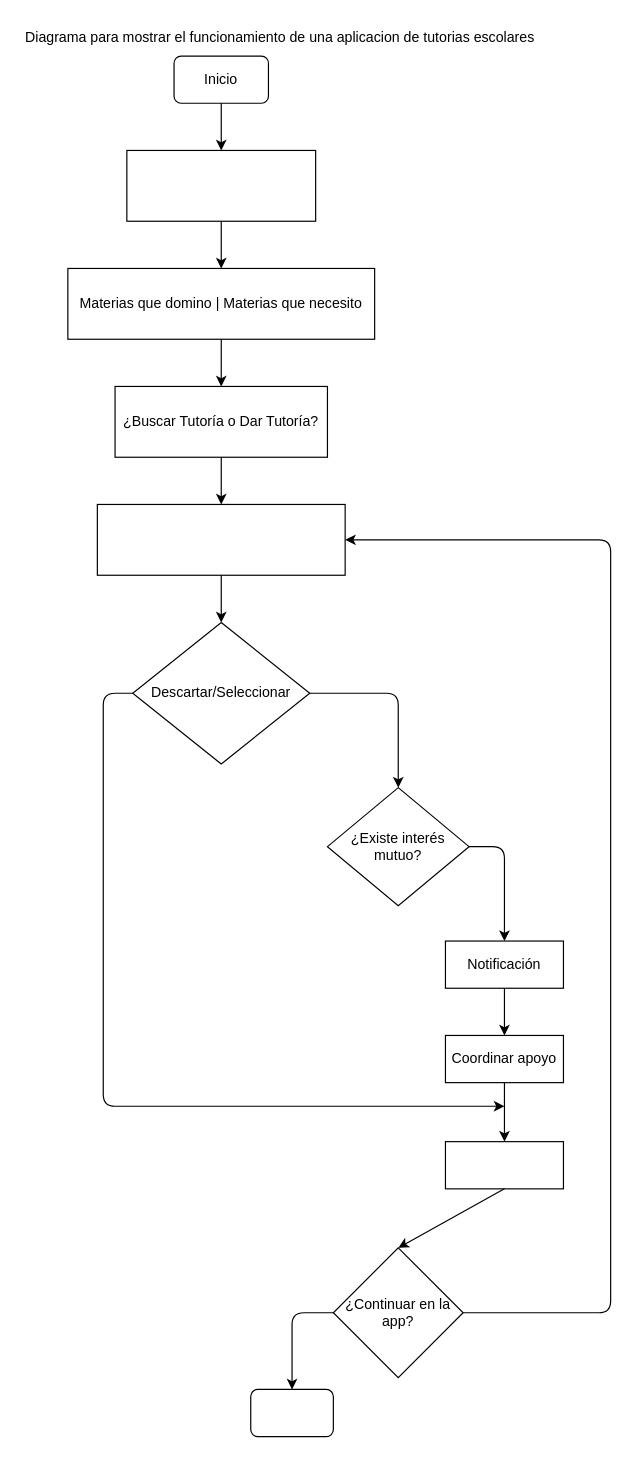
This 641x1457 diagram has some shape labels left out. Here are the shapes that lost their labels. From the top down, the centre of each, then its label:
the point at 221,185: Inicio de sesión / Registro
the point at 220,539: Perfil, materias que enseña/necesita, nivel y horario
the point at 503,1164: Cerrar chat
the point at 291,1412: Fin
